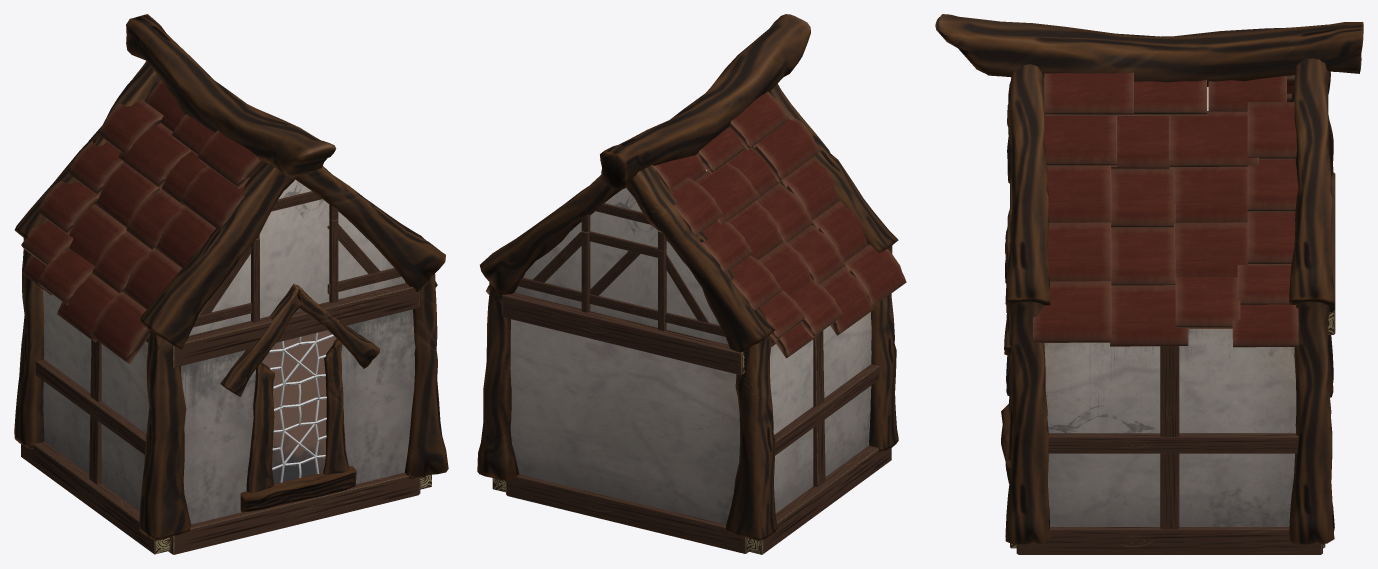
File: Xanochka.fbx
3 views of the same model, side by side, from view 1: azimuth 30°, elevation 25°; view 2: azimuth 150°, elevation 25°; view 3: azimuth 270°, elevation 25° (orthographic). The views are drawn at different scales.
Visible parts, largest first — view 1: Xanochka; view 2: Xanochka; view 3: Xanochka.
Boxes of the visible parts, left/top/right/bottom form: Xanochka: left=14, top=14, right=448, bottom=554; Xanochka: left=477, top=14, right=906, bottom=554; Xanochka: left=935, top=14, right=1363, bottom=554.
Bounding box in the file's own units: 237 × 287 × 242.
